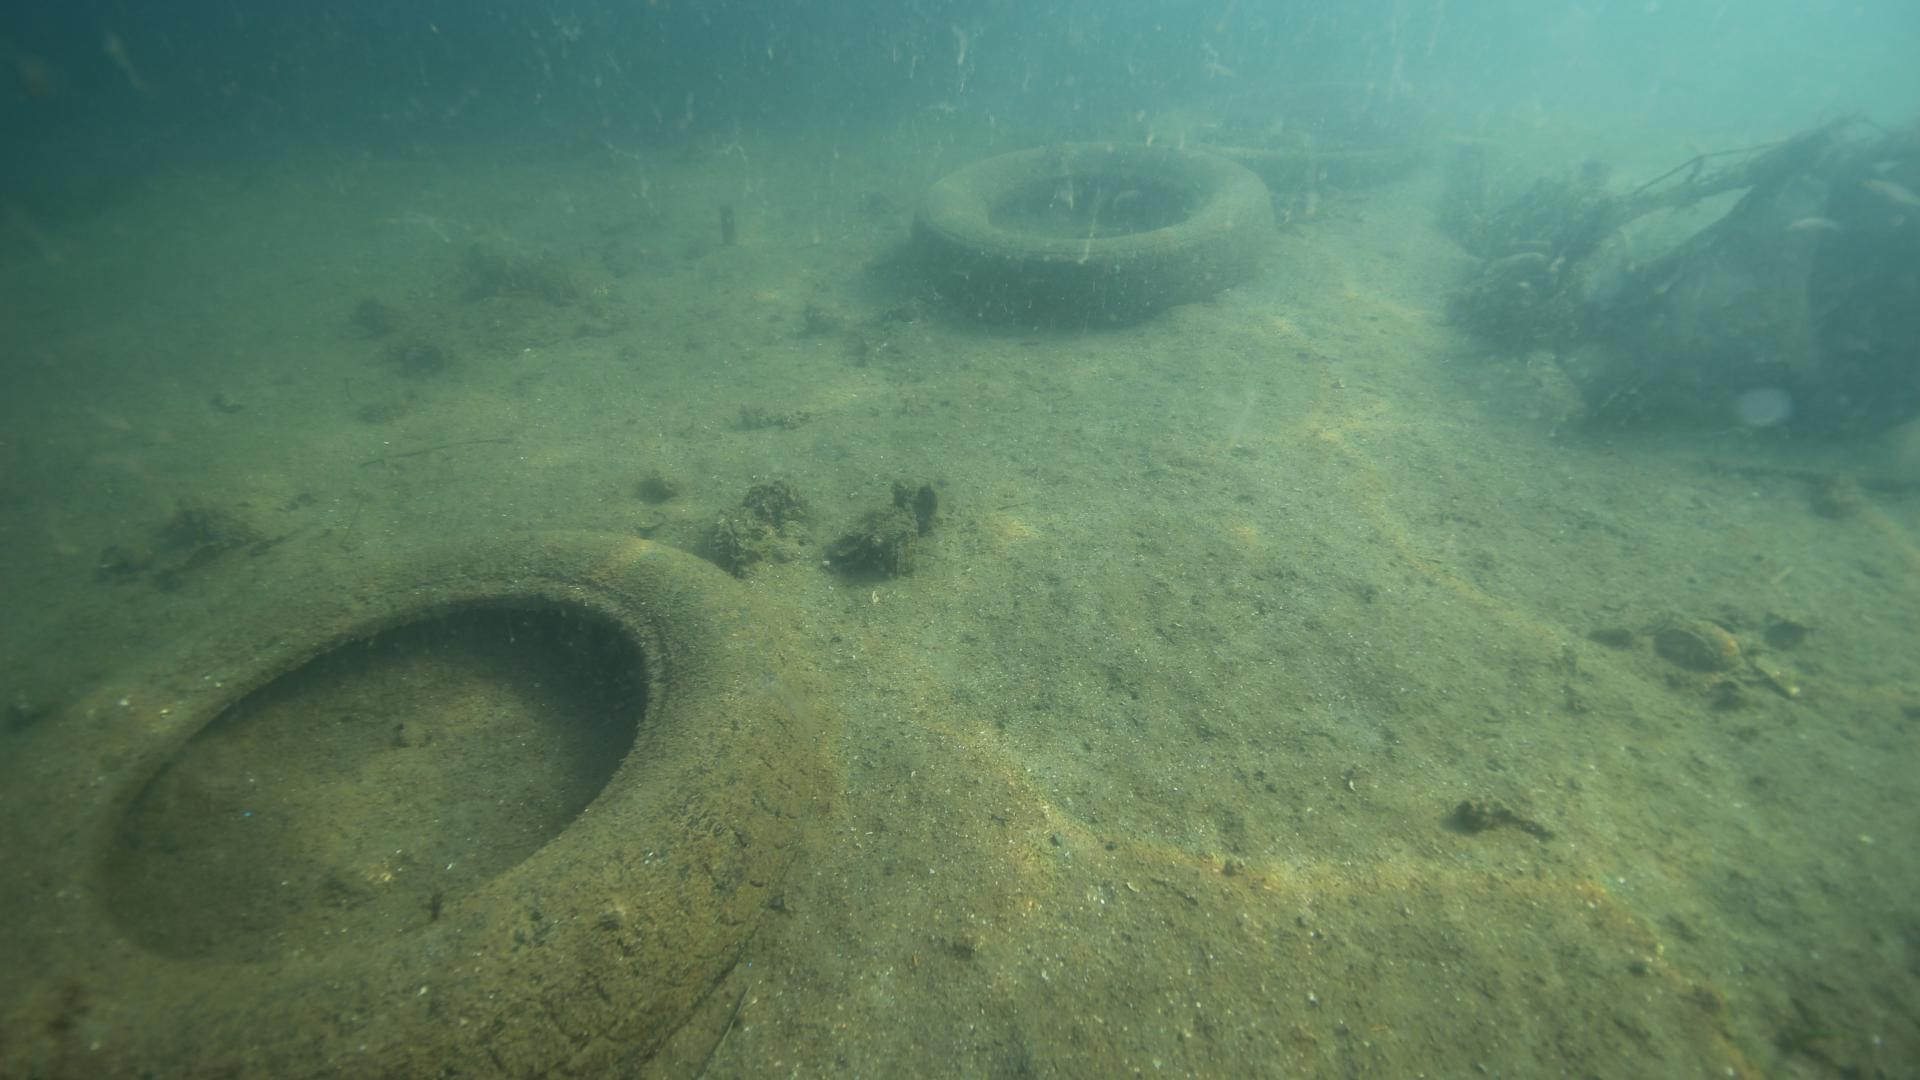tire: (0, 531, 824, 1080), (910, 135, 1274, 327)
